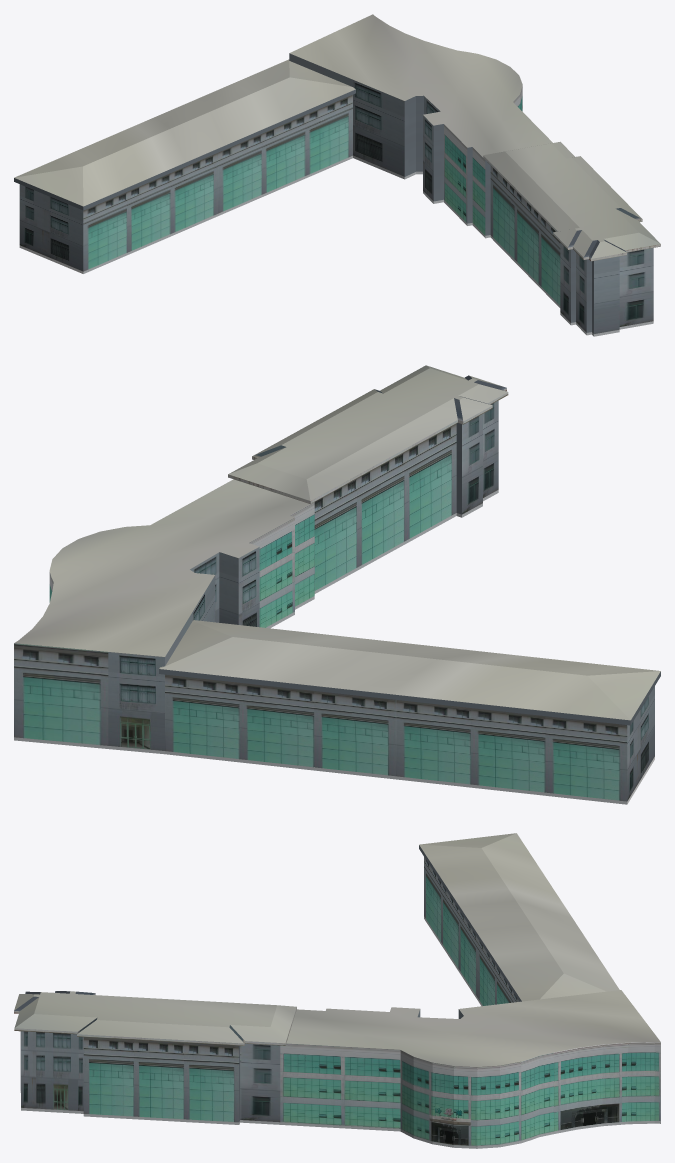
The model's file is wlg.gltf.
3 views of the same model, one above another, from view 1: azimuth 30°, elevation 25°; view 2: azimuth 150°, elevation 25°; view 3: azimuth 270°, elevation 25° (orthographic). The views are drawn at different scales.
Visible parts, largest first — view 1: Model#4; view 2: Model#4; view 3: Model#4.
Part boxes in pixels (x1,y1,x2,y2): Model#4: [14, 14, 660, 336]; Model#4: [14, 365, 660, 804]; Model#4: [14, 833, 660, 1148].
Size of the model in its own units: 0.0988 by 0.0175 by 0.1112.
Materials: 4 (3 with a texture image).
